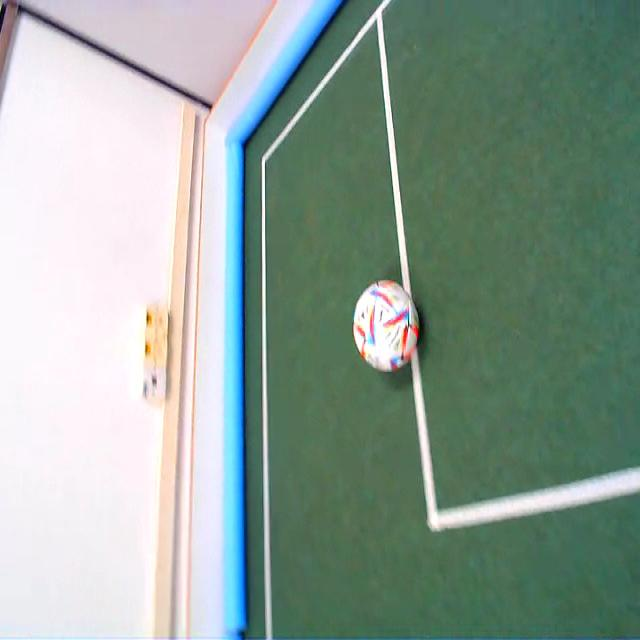ball: (354, 279, 420, 372)
